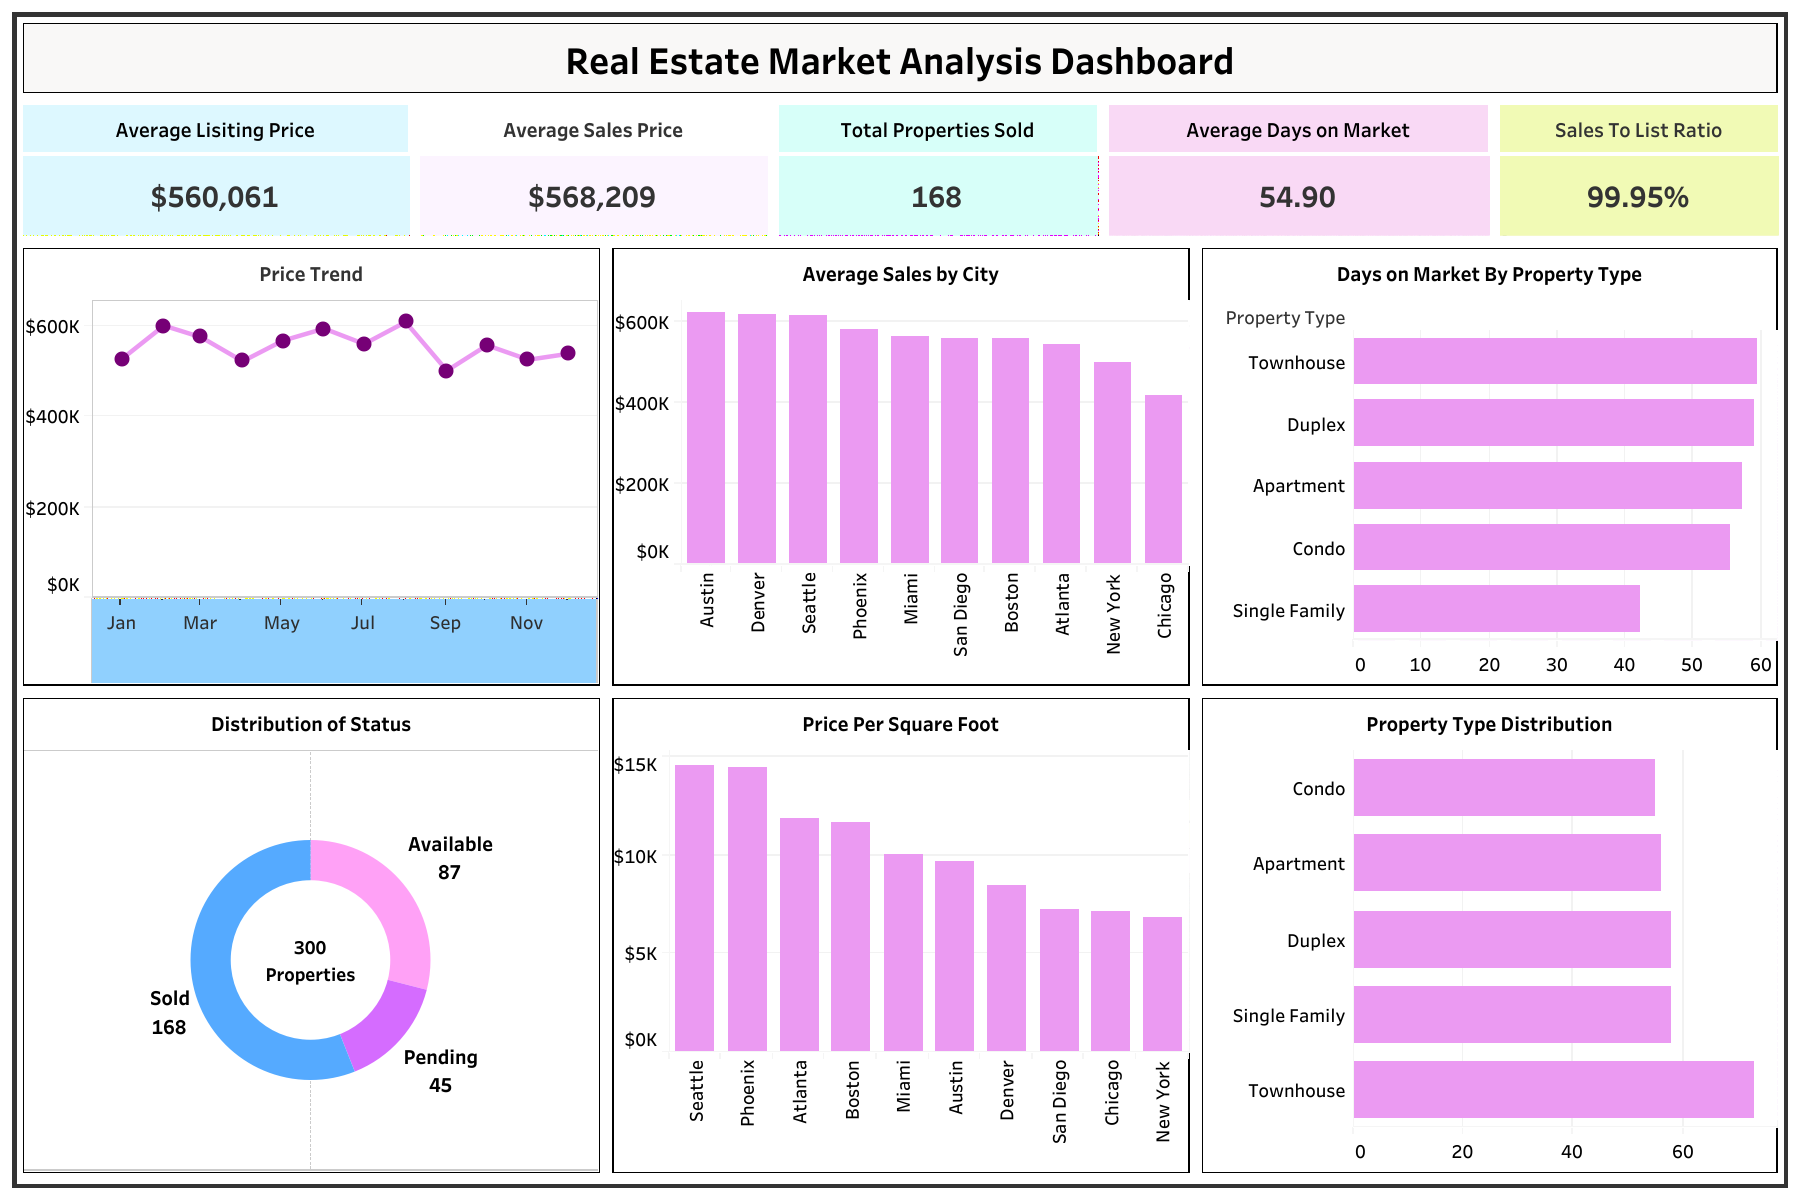

The page's visual inventory and layout, read from the dashboard file:
{"tool":"tableau","page":{"name":"Real Estate Dashboard","canvas":[1200,800],"ordinal":0},"visuals":[{"type":"text","box":[11,11,1178,55]},{"type":"worksheet","title":"Average Lisiting Price ","mark":"Automatic","box":[11,66,265,95]},{"type":"worksheet","title":"Average Sales Price ","mark":"Automatic","box":[276,66,239,95]},{"type":"worksheet","title":"Total Properties Sold","mark":"Automatic","box":[515,66,220,95]},{"type":"worksheet","title":"Average Days on Market","mark":"Automatic","box":[735,66,261,95]},{"type":"worksheet","title":"Sales To List Ratio","mark":"Automatic","box":[996,66,193,95]},{"type":"worksheet","title":"Price Trend","mark":"Automatic","rows":["Listing Price"],"cols":["Listing Date","Listing Date"],"box":[11,161,393,300]},{"type":"worksheet","title":"Average Sales by City","mark":"Automatic","rows":["Sale Price"],"cols":["City"],"box":[404,161,393,300]},{"type":"worksheet","title":"Days on Market By Property Type","mark":"Automatic","rows":["Property Type"],"cols":["Days on Market"],"box":[797,161,392,300]},{"type":"worksheet","title":"Distribution of Status","mark":"Pie","cols":["Calculation_2012264647806210050","Calculation_2012264647806210050"],"box":[11,461,393,325]},{"type":"worksheet","title":"Price Per Square Foot","mark":"Automatic","rows":["Calculation_2012264647810785285"],"cols":["City"],"box":[404,461,393,325]},{"type":"worksheet","title":"Property Type Distribution","mark":"Automatic","rows":["Property Type"],"cols":["Property ID"],"box":[797,461,392,325]}]}

Visuals, with their boxes in screenshot pixels (x1, y1, x2, y2), scaled from the page's 1200x800 canvas onto the 1799x1199 screenshot:
text: (16, 16, 1783, 99)
"Average Lisiting Price " worksheet: (16, 99, 414, 241)
"Average Sales Price " worksheet: (414, 99, 772, 241)
"Total Properties Sold" worksheet: (772, 99, 1102, 241)
"Average Days on Market" worksheet: (1102, 99, 1493, 241)
"Sales To List Ratio" worksheet: (1493, 99, 1783, 241)
"Price Trend" worksheet: (16, 241, 606, 691)
"Average Sales by City" worksheet: (606, 241, 1195, 691)
"Days on Market By Property Type" worksheet: (1195, 241, 1783, 691)
"Distribution of Status" worksheet (Pie marks): (16, 691, 606, 1178)
"Price Per Square Foot" worksheet: (606, 691, 1195, 1178)
"Property Type Distribution" worksheet: (1195, 691, 1783, 1178)
